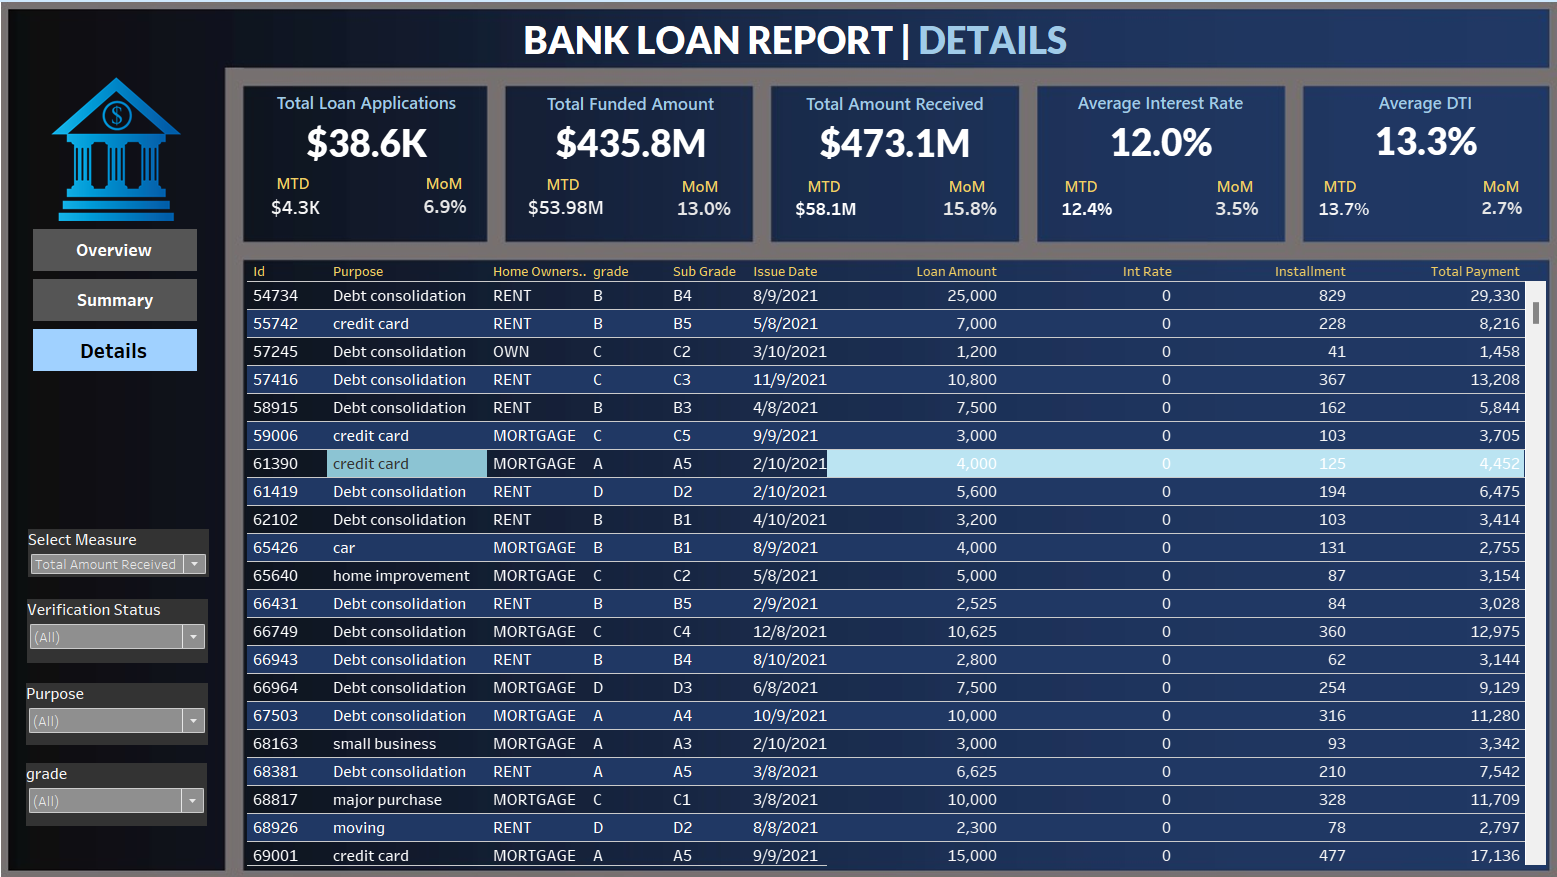

Layout of this report page (visuals, bound fields, positions):
{"tool":"tableau","page":{"name":"DETAILS","canvas":[1600,900],"ordinal":0},"visuals":[{"type":"text","box":[540,5,709,90]},{"type":"image","param":"D:/data analysis/sql plus power bi project/drive-download-20241129T133940Z-001/T","box":[8,8,1584,884]},{"type":"worksheet","title":"Total Loan Applications","mark":"Automatic","box":[265,97,243,74]},{"type":"worksheet","title":"Average Interest Rate","mark":"Automatic","box":[1059,97,243,71]},{"type":"worksheet","title":"Average DTI","mark":"Automatic","box":[1324,97,243,69]},{"type":"worksheet","title":"Total Funded Amount","mark":"Automatic","box":[533,98,235,71]},{"type":"worksheet","title":"Total Amount Received","mark":"Automatic","box":[794,98,242,71]},{"type":"text","box":[285,178,56,30]},{"type":"text","box":[436,178,56,30]},{"type":"text","box":[555,179,56,30]},{"type":"text","box":[692,181,56,30]},{"type":"text","box":[816,181,56,30]},{"type":"text","box":[959,181,56,30]},{"type":"text","box":[1073,181,56,30]},{"type":"text","box":[1227,181,56,30]},{"type":"text","box":[1332,181,56,30]},{"type":"text","box":[1493,181,56,30]},{"type":"worksheet","title":"MTD Total Funded Amount","mark":"Automatic","box":[541,195,89,44]},{"type":"worksheet","title":"MoM Avg DTI","mark":"Automatic","box":[1479,195,86,43]},{"type":"worksheet","title":"MoM Total Funded Amount","mark":"Automatic","box":[686,196,75,43]},{"type":"worksheet","title":"MoM Total Amount Received","mark":"Automatic","box":[949,196,81,44]},{"type":"worksheet","title":"MTD Total Loan Applications","mark":"Automatic","box":[287,199,56,35]},{"type":"worksheet","title":"MTD Avg INT Rate","mark":"Automatic","box":[1060,199,94,38]},{"type":"worksheet","title":"MTD Avg DTI","mark":"Automatic","box":[1319,199,90,37]},{"type":"worksheet","title":"MoM Avg Int Rate","mark":"Automatic","box":[1218,200,77,35]},{"type":"worksheet","title":"MTD Total Amount Received","mark":"Automatic","box":[805,201,82,34]},{"type":"worksheet","title":"MoM Loan Appications","mark":"Automatic","box":[434,202,61,27]},{"type":"dashboard-object","box":[53,239,164,42]},{"type":"worksheet","title":"Details Tab","mark":"Automatic","rows":["id","purpose","home_ownership","grade","sub_grade","issue_date"],"box":[267,271,1299,605]},{"type":"dashboard-object","box":[53,289,164,42]},{"type":"dashboard-object","box":[53,339,164,42]},{"type":"parameter","param":"[Parameters].[Parameter 1]","box":[48,539,181,48]},{"type":"filter","title":"Average DTI","param":"[federated.1mws0540yeynuy15g0irx0qm9odg].[none:verification_status:nk]","box":[47,609,181,64]},{"type":"filter","title":"Average DTI","param":"[federated.1mws0540yeynuy15g0irx0qm9odg].[none:purpose:nk]","box":[46,693,182,62]},{"type":"filter","title":"Average DTI","param":"[federated.1mws0540yeynuy15g0irx0qm9odg].[none:grade:nk]","box":[46,773,181,63]}]}

Visuals, with their boxes in screenshot pixels (x1, y1, x2, y2), scaled from the page's 1600x900 canvas onto the 1557x877 screenshot:
text: [525, 5, 1215, 93]
image: [8, 8, 1549, 869]
"Total Loan Applications" worksheet: [258, 95, 494, 167]
"Average Interest Rate" worksheet: [1031, 95, 1267, 164]
"Average DTI" worksheet: [1288, 95, 1525, 162]
"Total Funded Amount" worksheet: [519, 95, 747, 165]
"Total Amount Received" worksheet: [773, 95, 1008, 165]
text: [277, 173, 332, 203]
text: [424, 173, 479, 203]
text: [540, 174, 595, 204]
text: [673, 176, 728, 206]
text: [794, 176, 849, 206]
text: [933, 176, 988, 206]
text: [1044, 176, 1099, 206]
text: [1194, 176, 1249, 206]
text: [1296, 176, 1351, 206]
text: [1453, 176, 1507, 206]
"MTD Total Funded Amount" worksheet: [526, 190, 613, 233]
"MoM Avg DTI" worksheet: [1439, 190, 1523, 232]
"MoM Total Funded Amount" worksheet: [668, 191, 741, 233]
"MoM Total Amount Received" worksheet: [923, 191, 1002, 234]
"MTD Total Loan Applications" worksheet: [279, 194, 334, 228]
"MTD Avg INT Rate" worksheet: [1032, 194, 1123, 231]
"MTD Avg DTI" worksheet: [1284, 194, 1371, 230]
"MoM Avg Int Rate" worksheet: [1185, 195, 1260, 229]
"MTD Total Amount Received" worksheet: [783, 196, 863, 229]
"MoM Loan Appications" worksheet: [422, 197, 482, 223]
dashboard-object: [52, 233, 211, 274]
"Details Tab" worksheet: [260, 264, 1524, 854]
dashboard-object: [52, 282, 211, 323]
dashboard-object: [52, 330, 211, 371]
parameter: [47, 525, 223, 572]
"Average DTI" filter: [46, 593, 222, 656]
"Average DTI" filter: [45, 675, 222, 736]
"Average DTI" filter: [45, 753, 221, 815]
